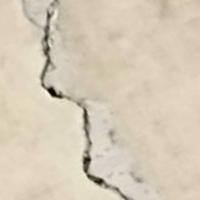crack: (19, 0, 132, 198)
